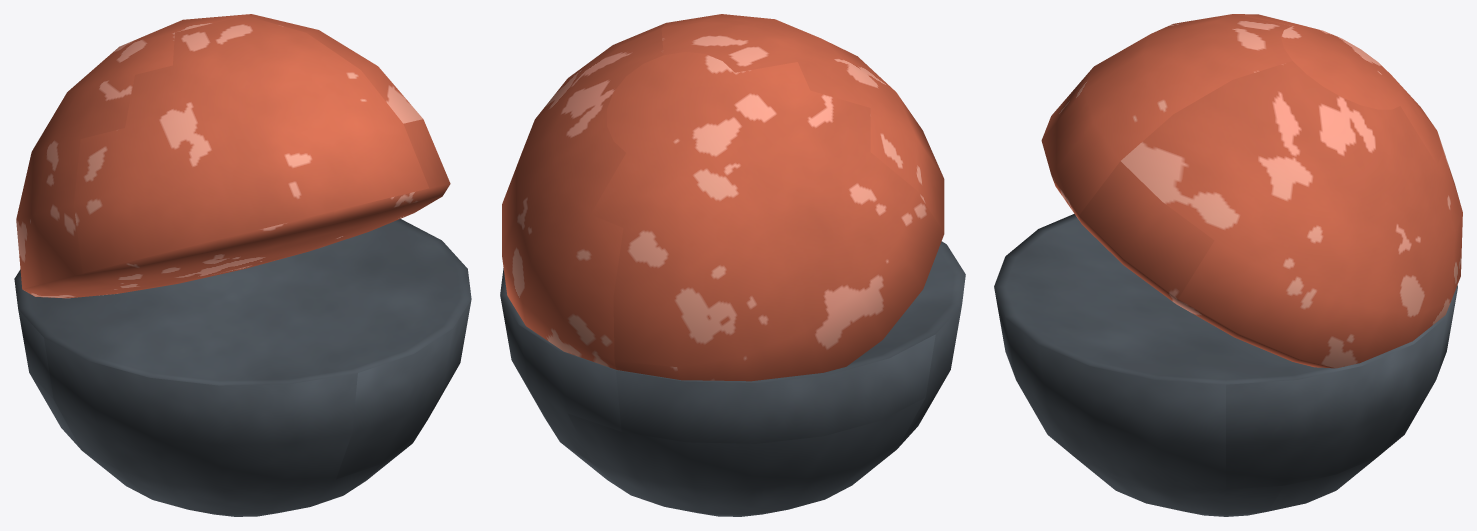
The model's file is clam.fbx.
The picture shows the model from 3 angles, left to right: view 1: azimuth 30°, elevation 25°; view 2: azimuth 150°, elevation 25°; view 3: azimuth 270°, elevation 25°; orthographic projection.
Parts seen in each view (by area): view 1: clam; view 2: clam; view 3: clam.
Boxes of the visible parts, x1,y1,x2,y2 form: clam: (14, 14, 471, 516); clam: (500, 14, 965, 516); clam: (994, 14, 1462, 516).
Size of the model in its own units: 70 by 76.72 by 70.72.
